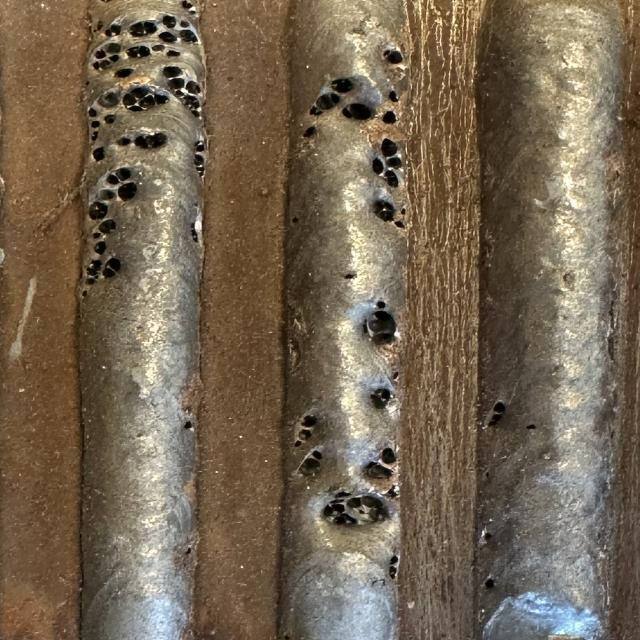Excess Reinforcement: (192, 205, 202, 243)
Porosity: (85, 168, 138, 284), (97, 66, 202, 117), (323, 491, 388, 524), (95, 166, 140, 202), (93, 168, 138, 202), (372, 139, 403, 187), (365, 301, 397, 345), (363, 448, 397, 478), (117, 131, 167, 149), (92, 42, 122, 70), (310, 91, 340, 115), (310, 92, 340, 115), (482, 401, 507, 428), (298, 450, 322, 475), (382, 139, 402, 168), (363, 461, 393, 479), (342, 102, 373, 119), (193, 136, 205, 176), (373, 200, 395, 221), (370, 388, 392, 409), (130, 21, 157, 38), (88, 201, 108, 220), (102, 258, 120, 278), (118, 182, 137, 200), (383, 49, 403, 64), (332, 78, 353, 92), (98, 219, 117, 234), (127, 46, 150, 58), (332, 79, 353, 92), (380, 448, 397, 464), (388, 555, 398, 579), (163, 66, 183, 78), (163, 66, 183, 78), (105, 22, 122, 36), (300, 415, 317, 428), (385, 170, 398, 187), (180, 30, 198, 42), (185, 80, 200, 94), (162, 15, 177, 29), (90, 120, 100, 141), (158, 31, 177, 42), (382, 111, 397, 124), (385, 485, 400, 498), (372, 159, 385, 174), (175, 18, 190, 29), (115, 69, 133, 78), (95, 241, 107, 254), (93, 148, 105, 161), (303, 126, 315, 138), (300, 430, 312, 440), (388, 90, 398, 102), (103, 114, 115, 124), (482, 531, 492, 543), (485, 578, 495, 589), (295, 435, 305, 446), (182, 0, 193, 9), (167, 49, 180, 56), (152, 44, 165, 51), (188, 6, 197, 15), (183, 421, 193, 429), (88, 108, 97, 116), (395, 221, 405, 228), (345, 274, 357, 279), (293, 440, 302, 446), (97, 20, 103, 29), (400, 208, 405, 214)
Spatters: (303, 126, 317, 138), (258, 186, 270, 196), (563, 272, 573, 284), (485, 471, 492, 481), (615, 170, 623, 178), (392, 371, 400, 379), (527, 424, 537, 430), (60, 575, 68, 582), (82, 290, 87, 296), (292, 218, 298, 222), (305, 65, 310, 69), (215, 472, 218, 474), (265, 460, 268, 462)
